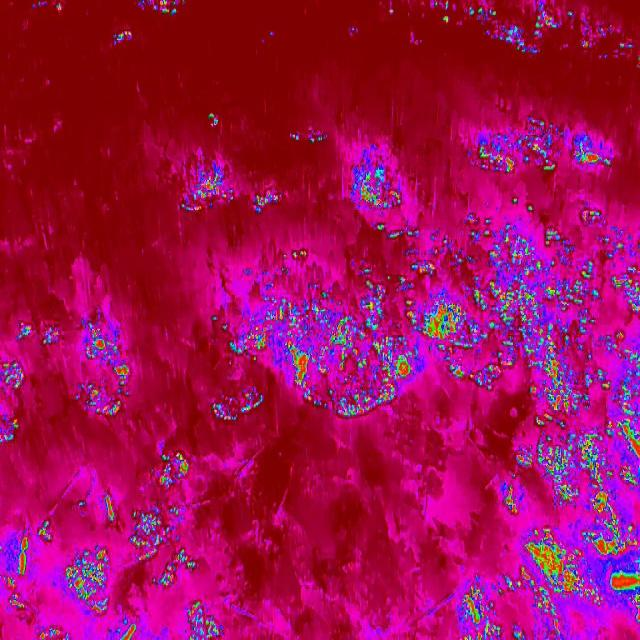fire: (212, 192, 640, 426), (450, 422, 640, 640), (0, 485, 231, 640), (0, 317, 133, 441), (424, 0, 640, 60), (471, 122, 616, 182), (170, 155, 280, 223), (351, 152, 407, 216), (153, 451, 197, 492), (136, 0, 180, 18), (106, 27, 134, 45)
